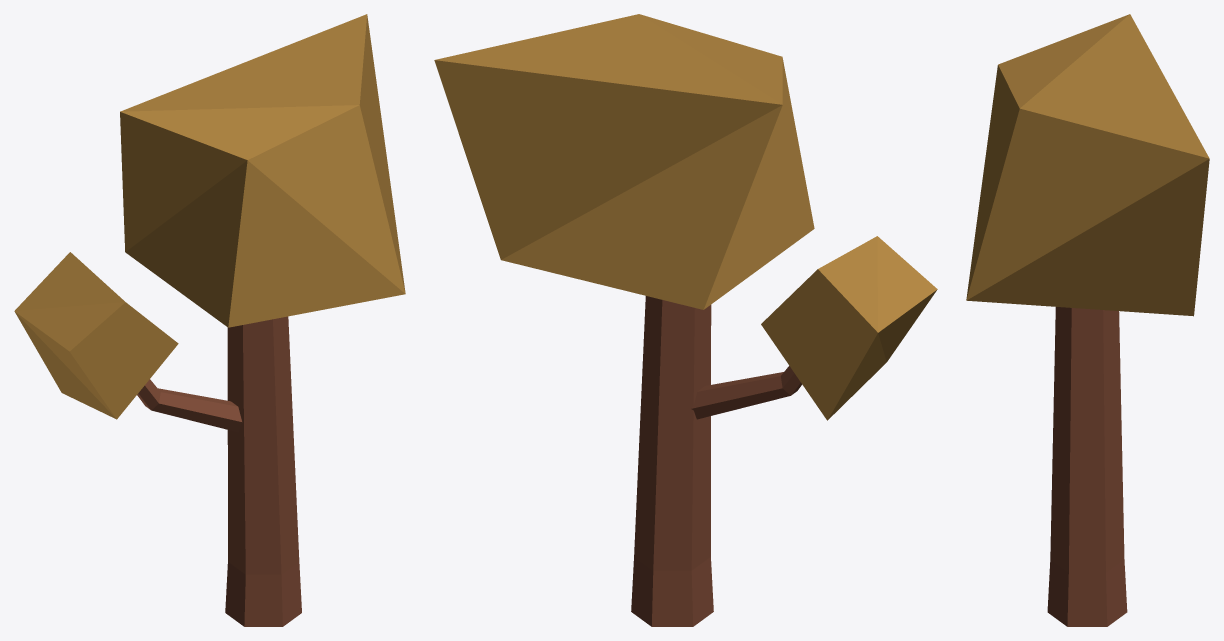
File: Tree_45_autumn_vc.fbx
3 views of the same model, side by side, from view 1: azimuth 30°, elevation 25°; view 2: azimuth 150°, elevation 25°; view 3: azimuth 270°, elevation 25° (orthographic). The views are drawn at different scales.
Parts seen in each view (by area): view 1: Tree_45_autumn_vc; view 2: Tree_45_autumn_vc; view 3: Tree_45_autumn_vc.
Boxes of the visible parts, x1,y1,x2,y2 form: Tree_45_autumn_vc: (14,14,405,626); Tree_45_autumn_vc: (434,14,937,626); Tree_45_autumn_vc: (966,14,1209,626).
Size of the model in its own units: 139 by 179 by 73.58.
